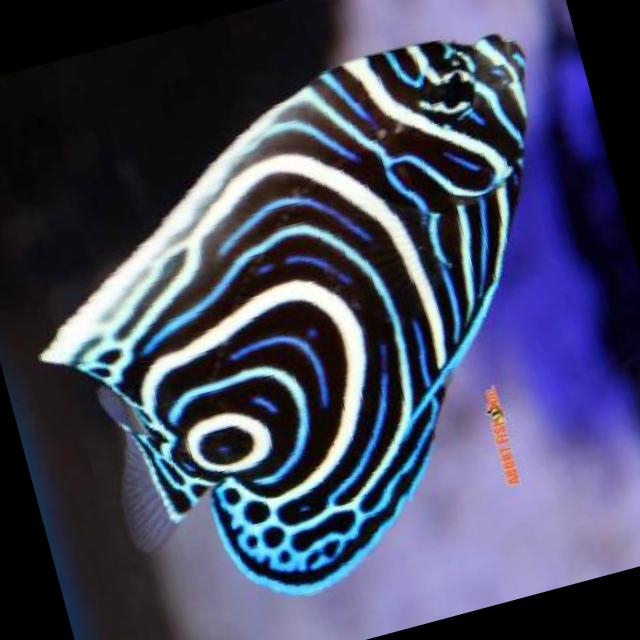AngelFish: (0, 11, 640, 639)
